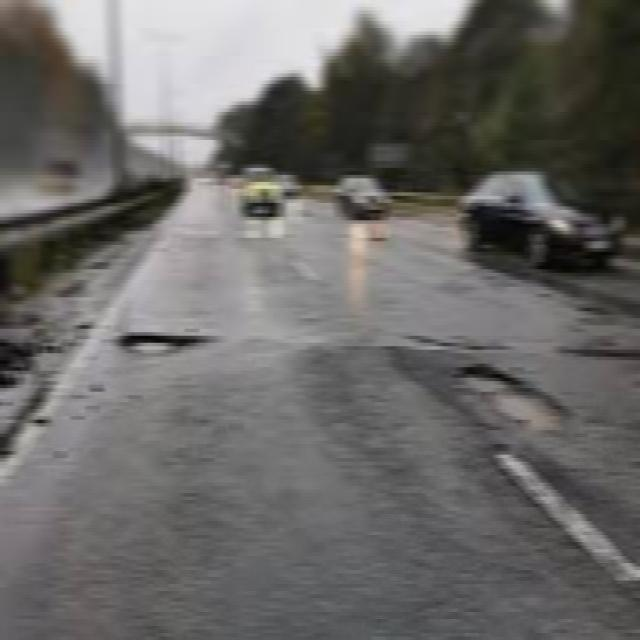Pothole: (448, 353, 568, 439), (112, 326, 224, 363), (565, 339, 640, 365)
